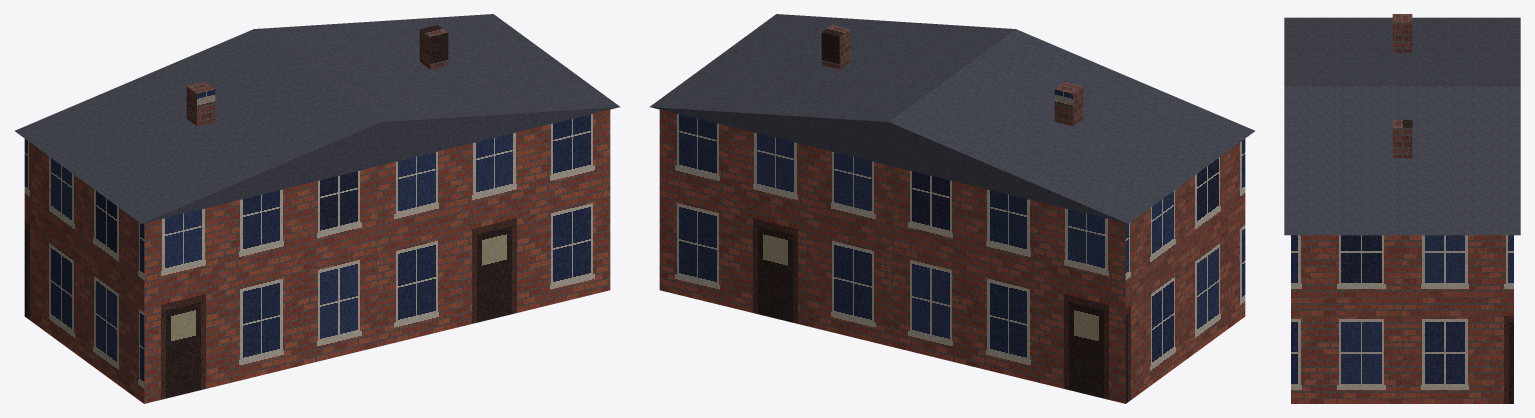
File: env_terrace_row.glb
The picture shows the model from 3 angles, left to right: view 1: azimuth 30°, elevation 25°; view 2: azimuth 150°, elevation 25°; view 3: azimuth 270°, elevation 25°; orthographic projection. The views are drawn at different scales.
Parts seen in each view (by area): view 1: env_terrace_row; view 2: env_terrace_row; view 3: env_terrace_row.
Part boxes in pixels (x1=…): env_terrace_row: x1=15, y1=14, x2=619, y2=403; env_terrace_row: x1=650, y1=14, x2=1254, y2=403; env_terrace_row: x1=1284, y1=14, x2=1520, y2=403.
Size of the model in its own units: 18.5 by 9 by 8.5.
3 materials, 3 textured.
